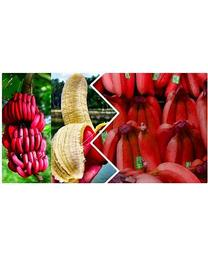banana: (1, 91, 48, 177)
